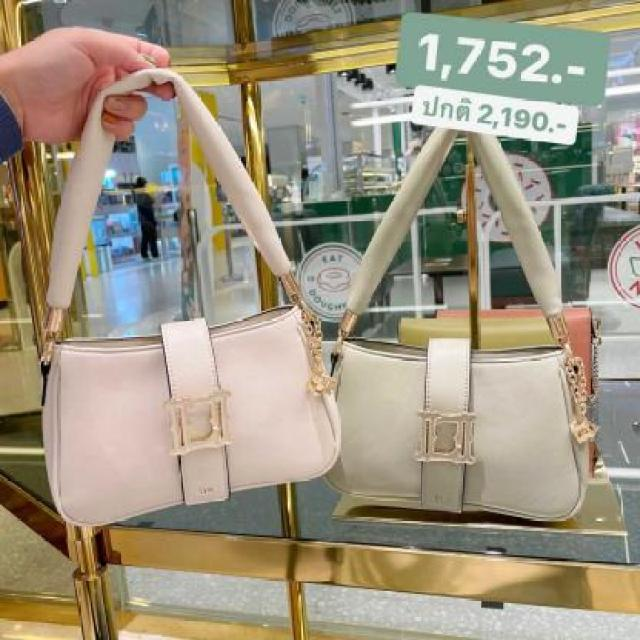Bag: (283, 63, 612, 574), (14, 51, 363, 529)
